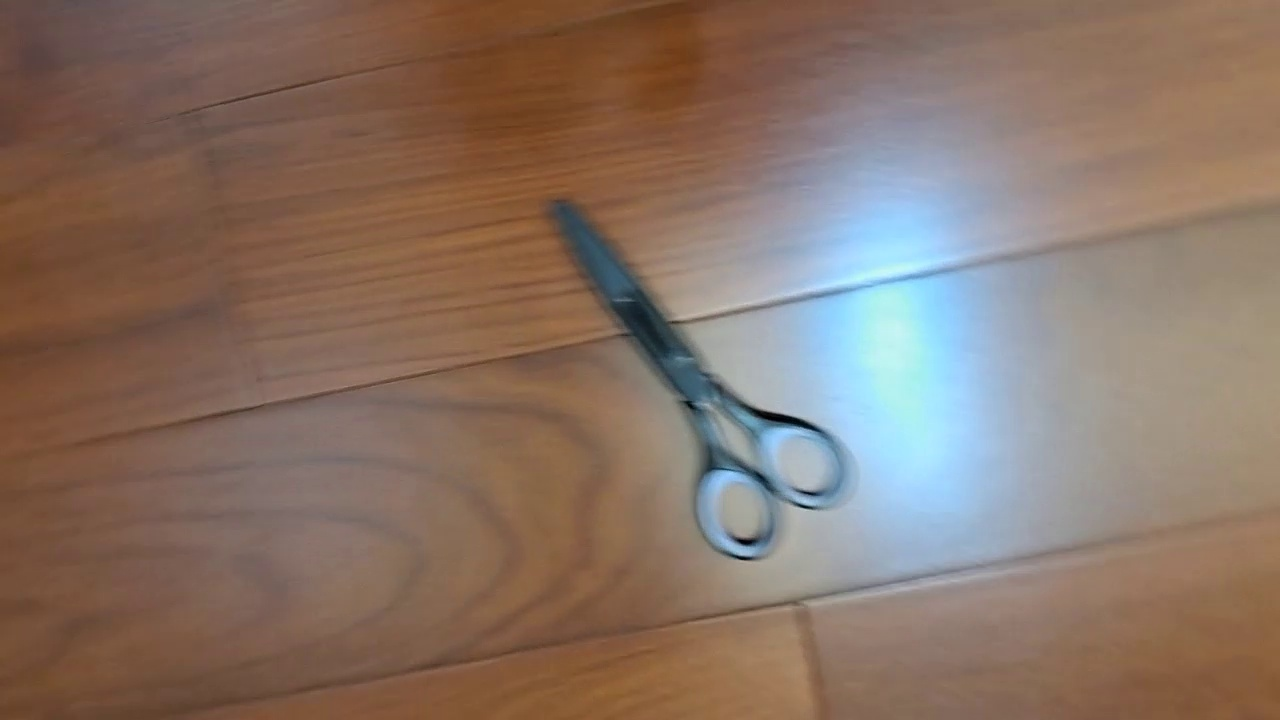scissors: (541, 191, 860, 561)
